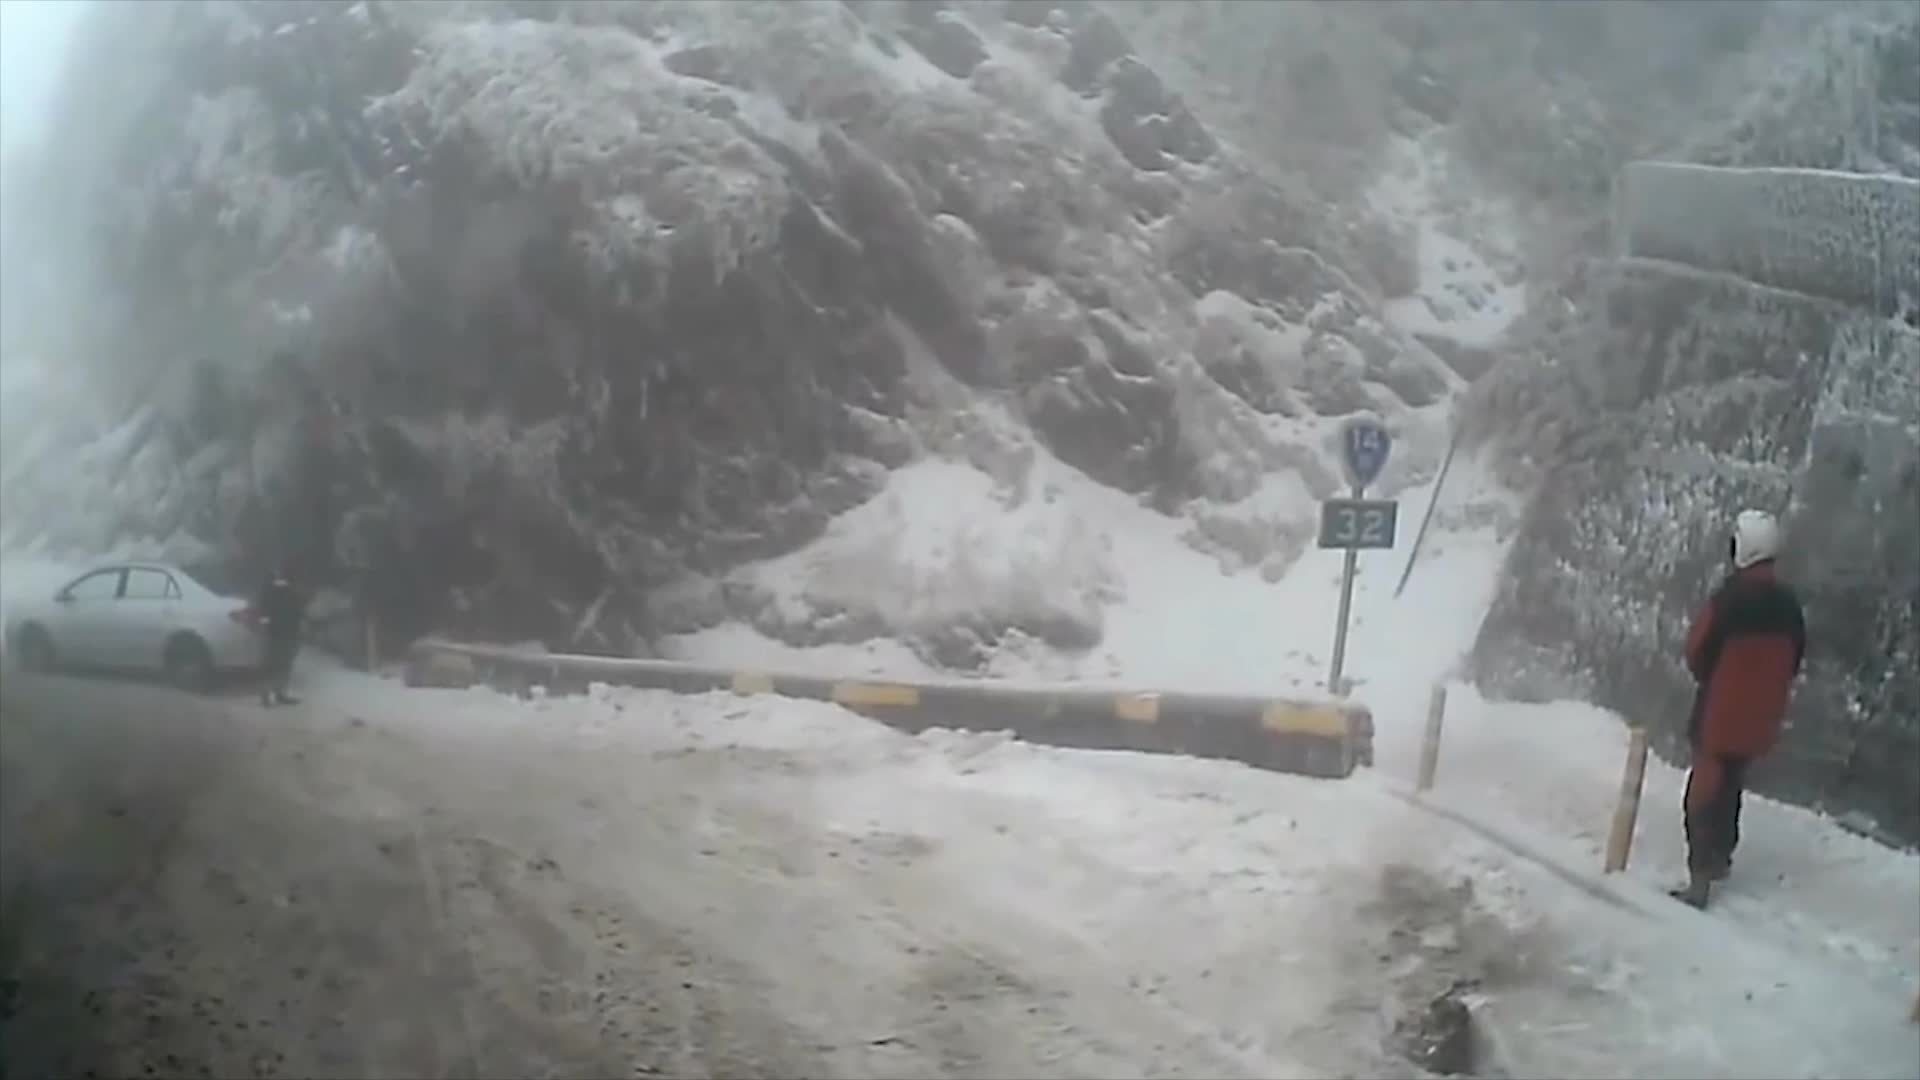pedestrian: (1658, 512, 1806, 914), (256, 571, 302, 709)
vehicle: (0, 559, 272, 694)
